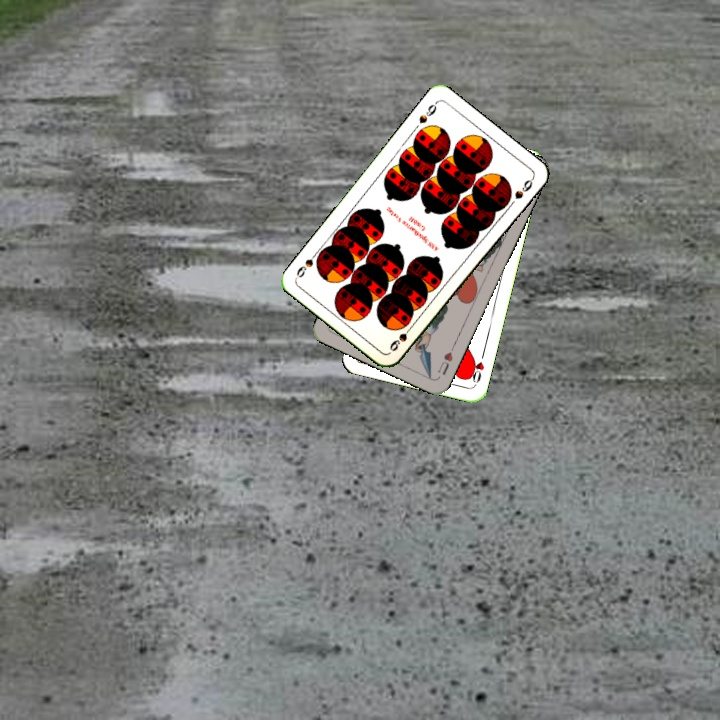HO: (465, 347, 487, 387)
HU: (433, 341, 457, 378)
S9: (385, 320, 416, 354), (414, 98, 440, 126)
